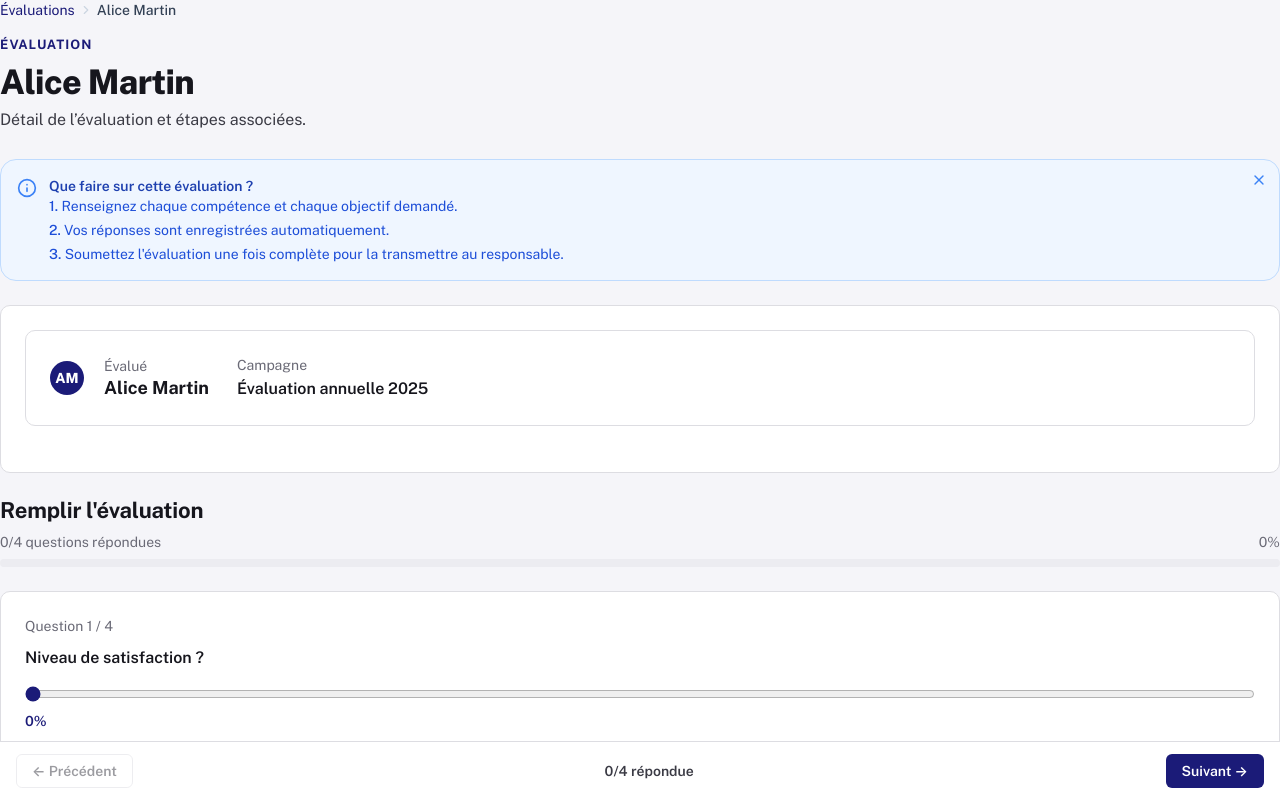
Test: EvaluationDetailPage › mode A: rend les types de question avancés (scale, weather, mobility, n1_import)
Expected: the text "Niveau de satisfaction ?" is shown, left=25, top=648, right=204, bottom=666
Expected: the slider is shown, left=25, top=686, right=1255, bottom=702
weather → boutons d'humeur
What coordinates should you click on to do the following:
click the button "Suivant →"
I would click on:
 (1215, 771)
Its box is left=1166, top=754, right=1264, bottom=788.
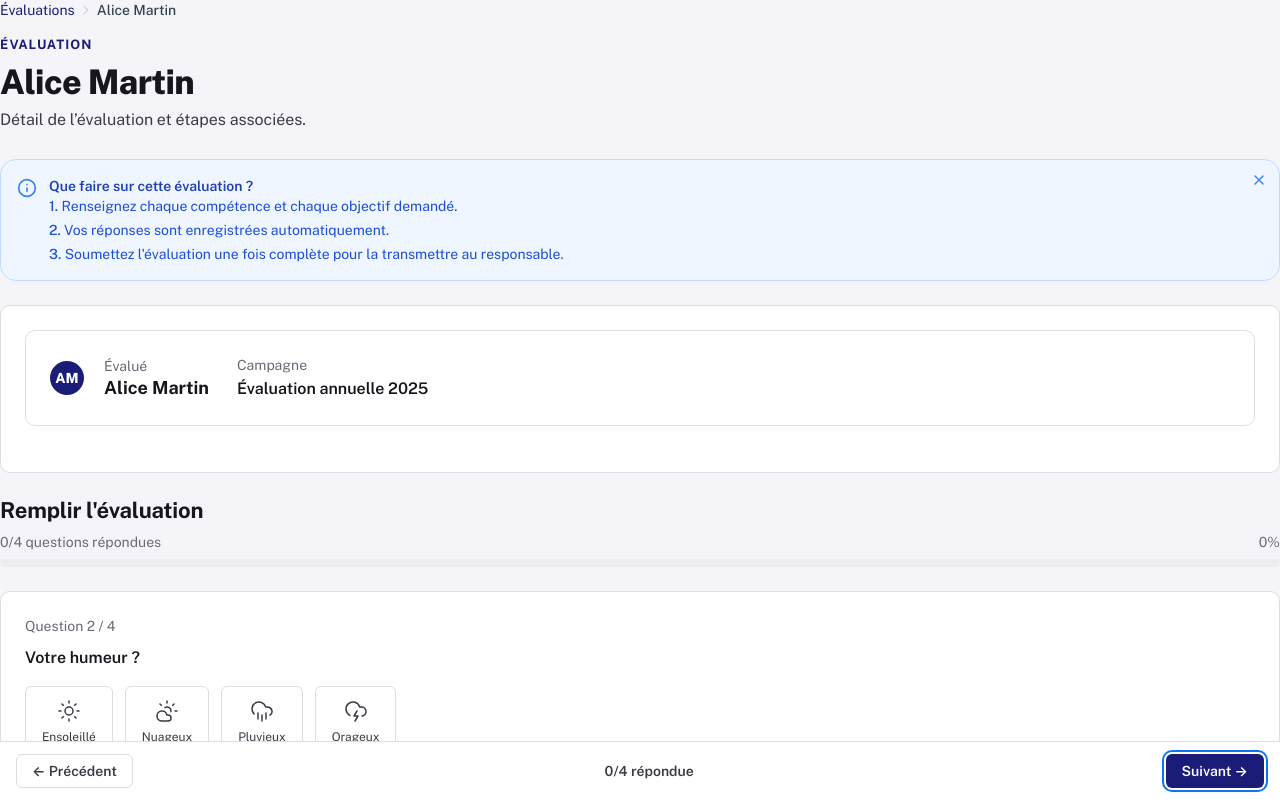
Result: the text "Votre humeur ?" is shown at left=25, top=648, right=140, bottom=666
Result: the button "Ensoleillé" is shown at left=25, top=686, right=113, bottom=760
mobility → select
What coordinates should you click on to do the following:
click the button "Suivant →"
I would click on:
 (1215, 771)
Its box is left=1166, top=754, right=1264, bottom=788.
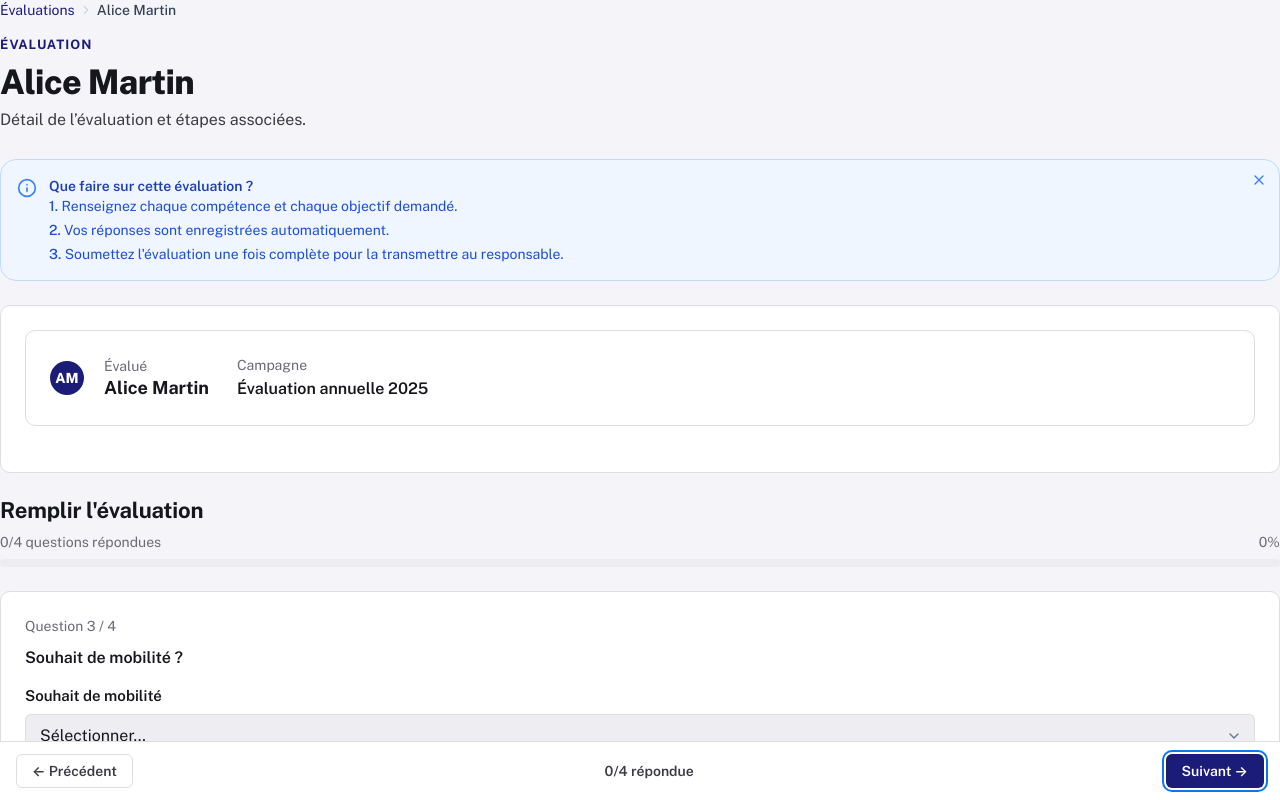
Result: the text "Souhait de mobilité ?" is shown at left=25, top=648, right=183, bottom=666
Result: the dropdown is shown at left=25, top=714, right=1255, bottom=759
n1_import → la question s'affiche (N1ImportView supprimé — carryPrevious gère le contexte N-1)
What coordinates should you click on to do the following:
click the button "Suivant →"
I would click on:
 (1215, 771)
Its box is left=1166, top=754, right=1264, bottom=788.
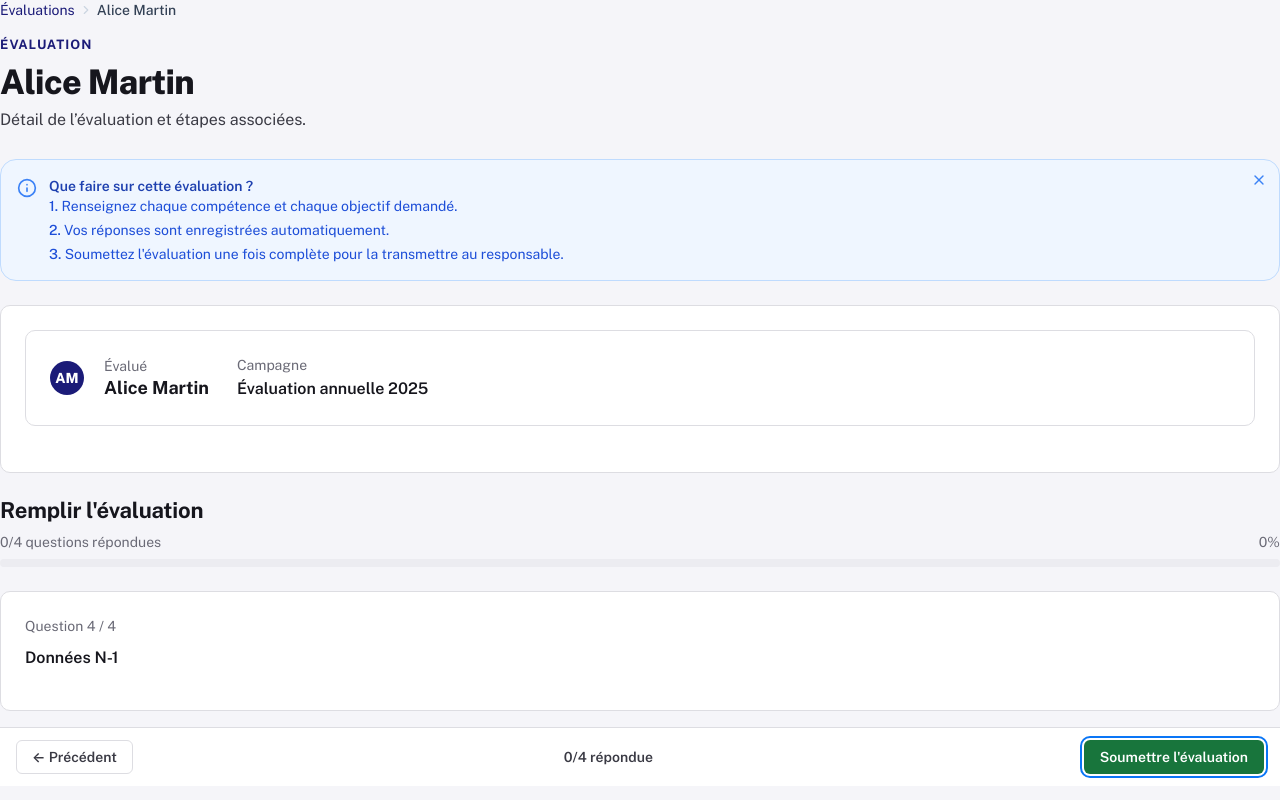
Result: the text "Données N-1" is shown at left=25, top=648, right=118, bottom=666
